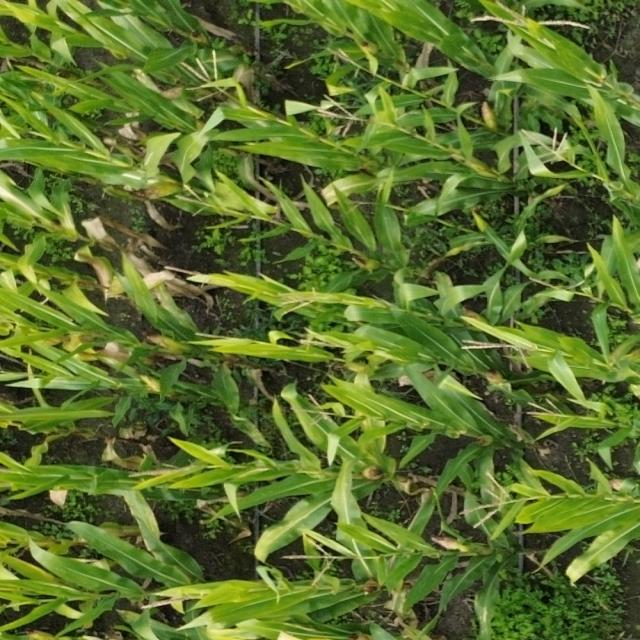gray-leaf-spot: (128, 502, 160, 532), (470, 594, 492, 633)
northern-leaf-blight: (77, 250, 120, 288)
southern-leaf-blight: (591, 535, 623, 564)
